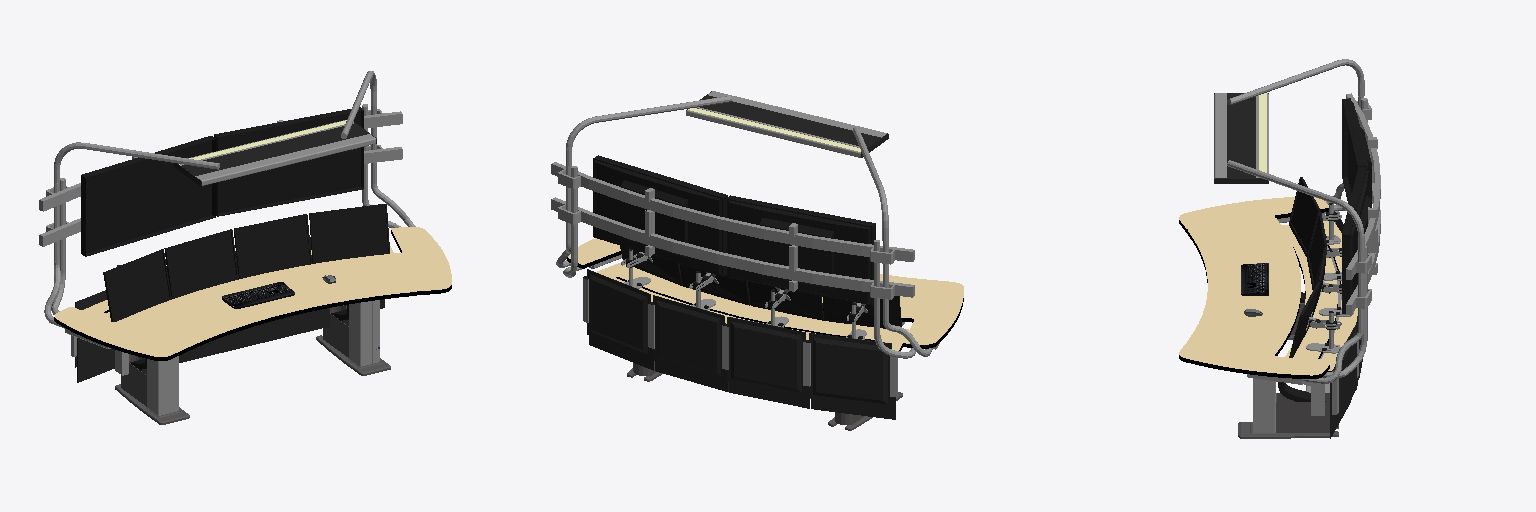
3 renders of one model, left to right at view 1: azimuth 30°, elevation 25°; view 2: azimuth 150°, elevation 25°; view 3: azimuth 270°, elevation 25°, orthographic.
Visible parts, largest first — view 1: DeskOBJ; view 2: DeskOBJ; view 3: DeskOBJ.
Part boxes in pixels (left/top/right/bottom): DeskOBJ: left=39, top=71, right=451, bottom=424; DeskOBJ: left=551, top=91, right=963, bottom=430; DeskOBJ: left=1179, top=59, right=1380, bottom=438.
Bounding box in the file's own units: 2.76 × 1.8 × 1.31.
Materials: 17 (1 with a texture image).